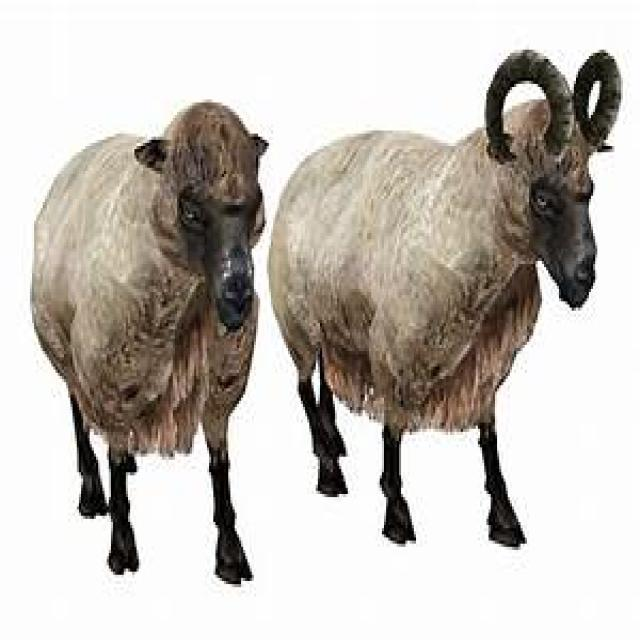goat: (267, 50, 623, 547), (28, 103, 269, 590)
